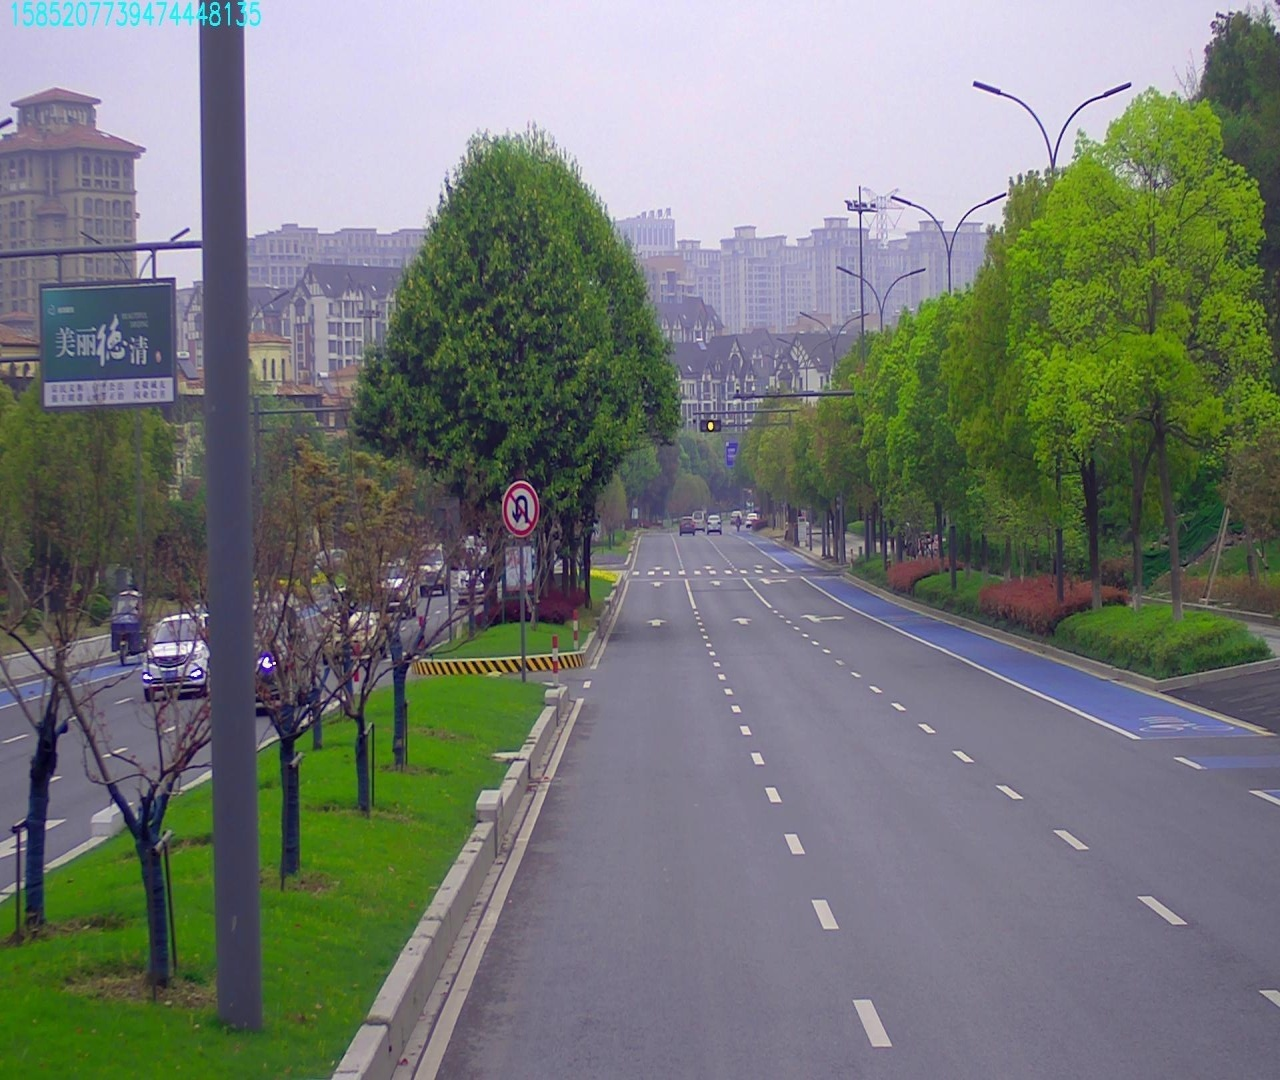yellow: (702, 416, 722, 439)
